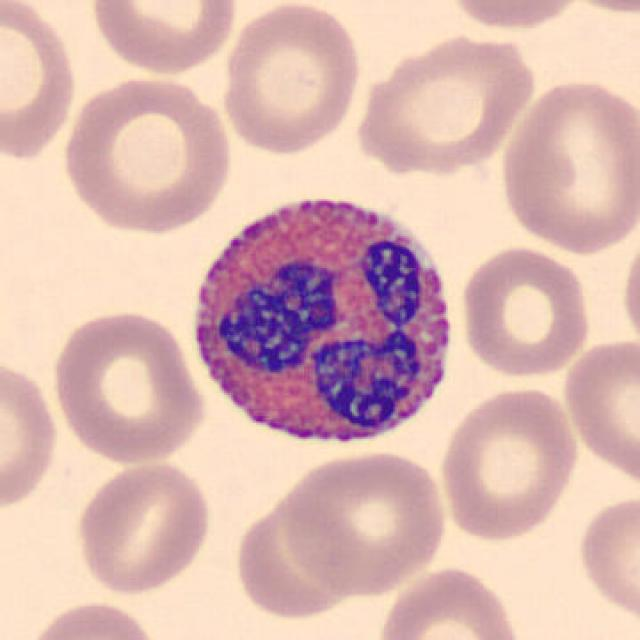Eosinophil: (178, 173, 468, 465)
RBC: (55, 72, 237, 238), (350, 27, 539, 176), (274, 446, 452, 598), (494, 74, 638, 257), (48, 305, 210, 467), (436, 382, 582, 544), (217, 0, 366, 157), (71, 457, 215, 598), (455, 241, 594, 381), (238, 500, 364, 615), (0, 0, 80, 166), (558, 331, 638, 492), (84, 0, 242, 78), (374, 564, 526, 640), (0, 354, 62, 516), (572, 490, 640, 630), (21, 597, 163, 640), (439, 0, 592, 33), (617, 220, 640, 358), (551, 0, 638, 16)
